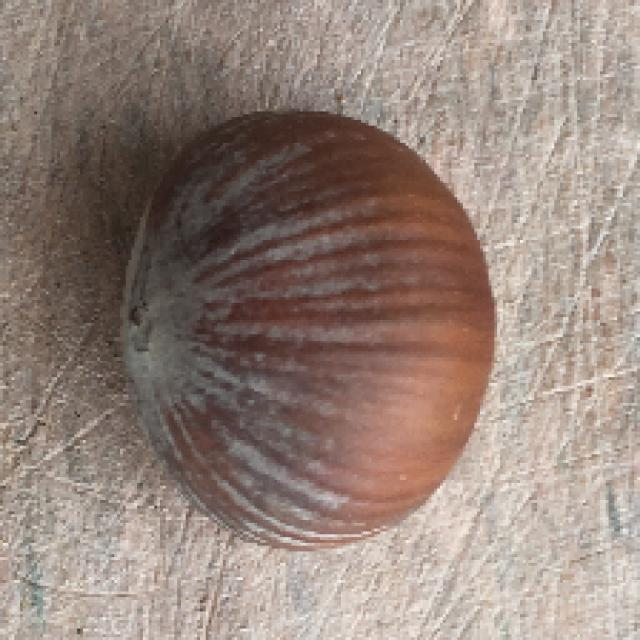qualityHazelnut: (118, 106, 494, 554)
